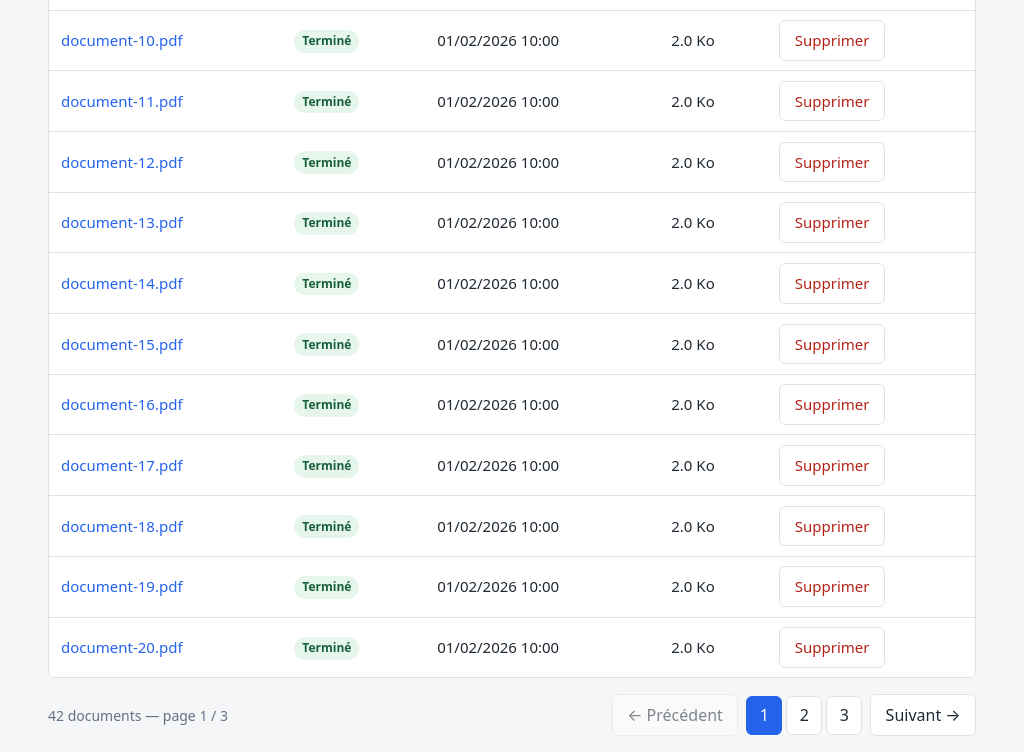
Pagination de la liste des documents › revient a la page precedente
The image size is (1024, 752).
(page scrolled)
Click the button "Suivant →".
click(923, 715)  # box [870,694,976,736]
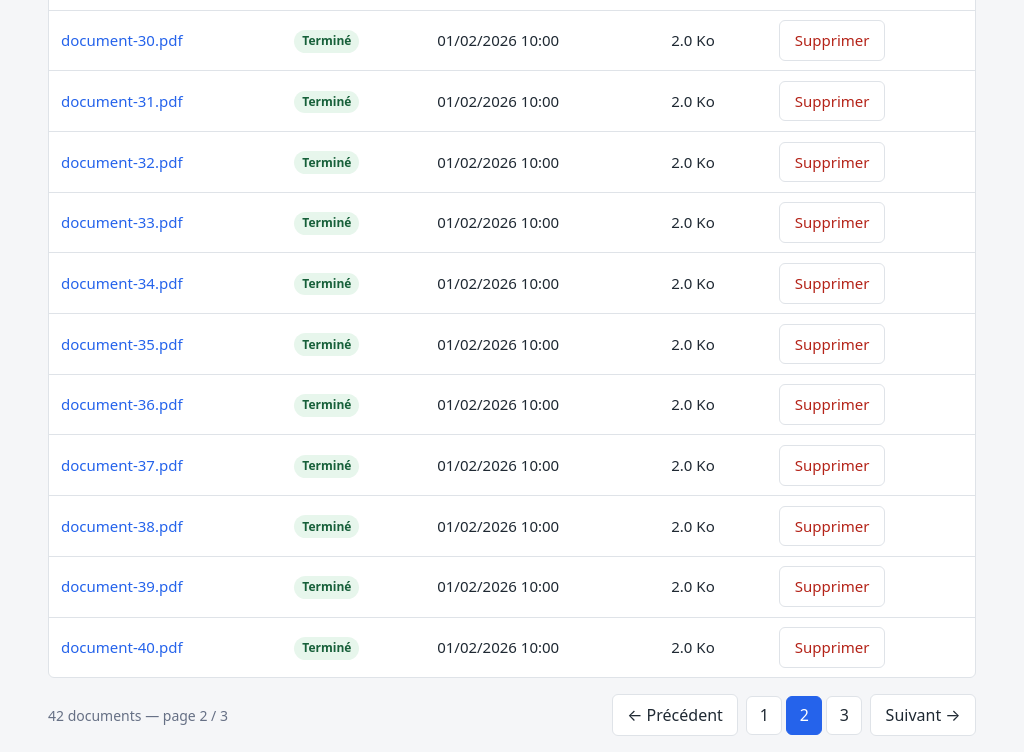
expect the text "42 documents — page 2 / 3" is shown: met, box [48,705,228,726]
Click the button "← Précédent".
click(675, 715)  # box [612,694,738,736]
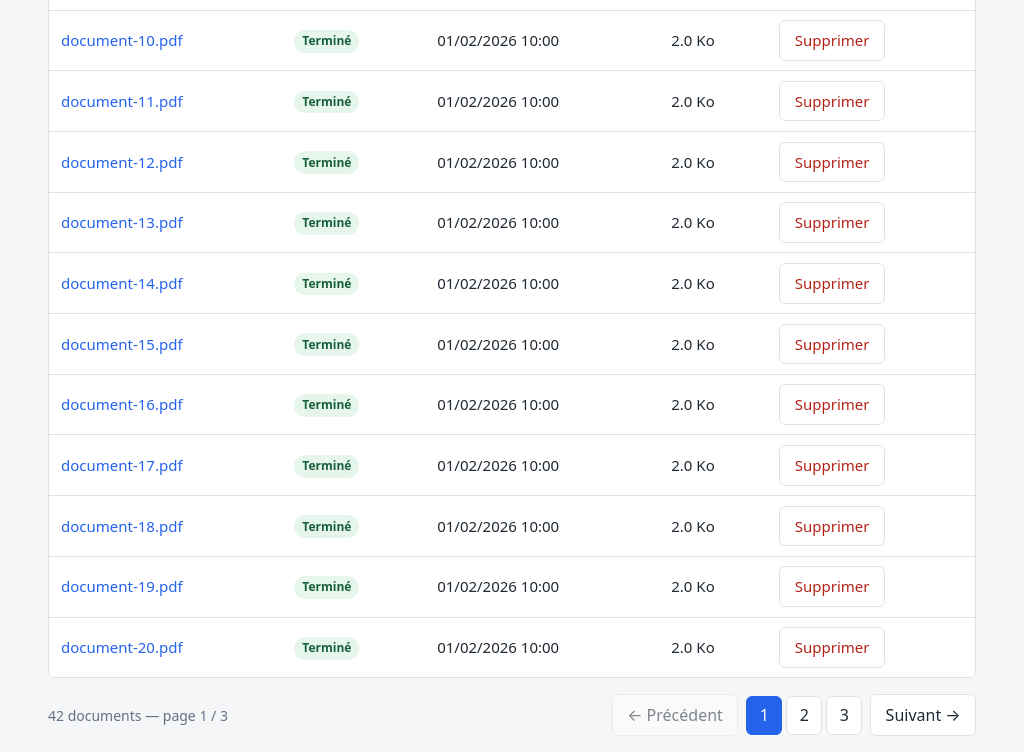
expect the text "42 documents — page 1 / 3" is shown: met, box [48,705,228,726]
